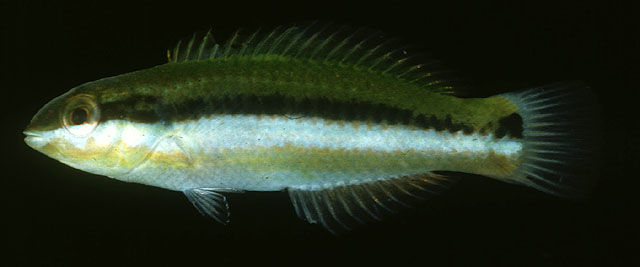fish: (20, 26, 571, 232)
